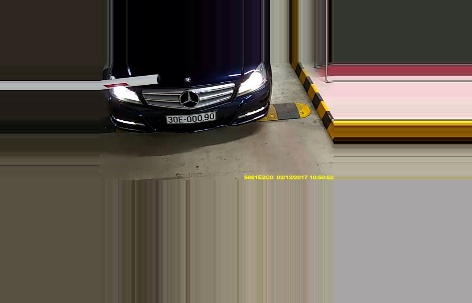plate: (165, 111, 216, 124)
